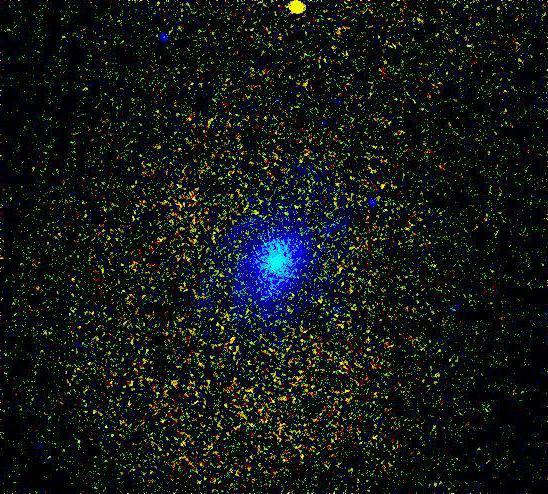star: (283, 0, 313, 24)
